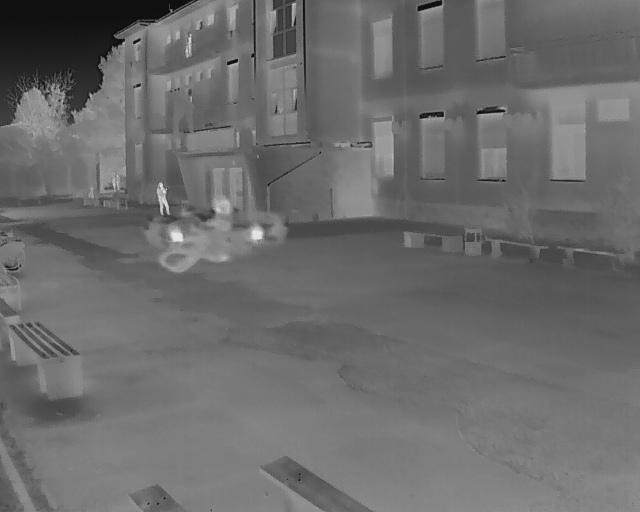drone: (138, 191, 295, 277)
